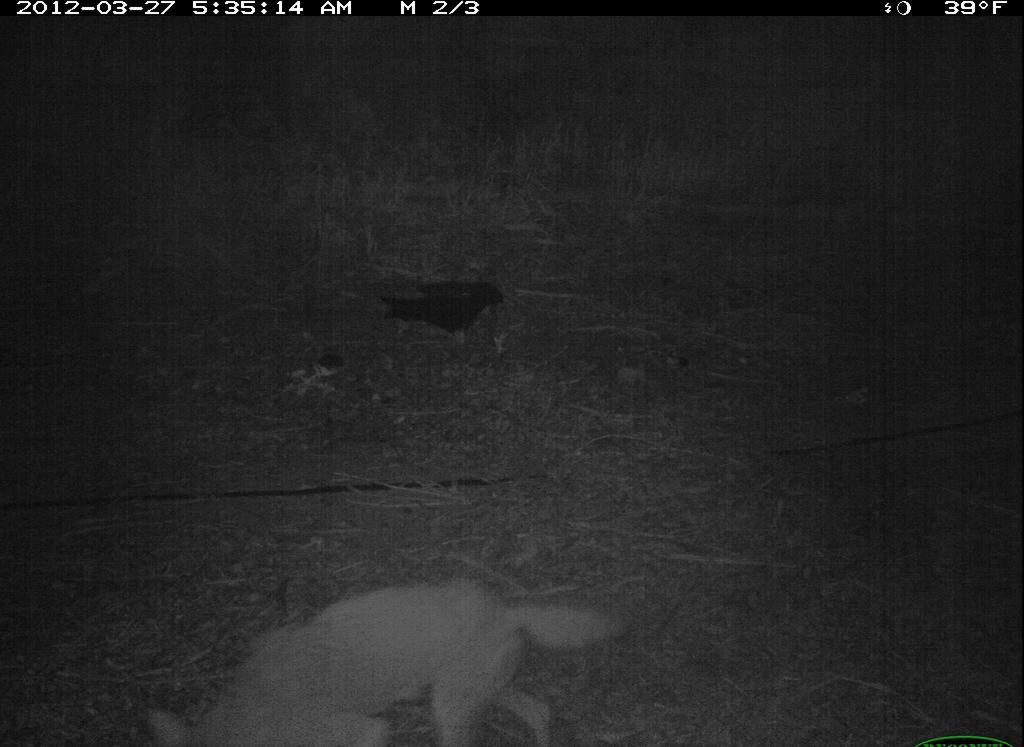coyote: (140, 570, 651, 747)
